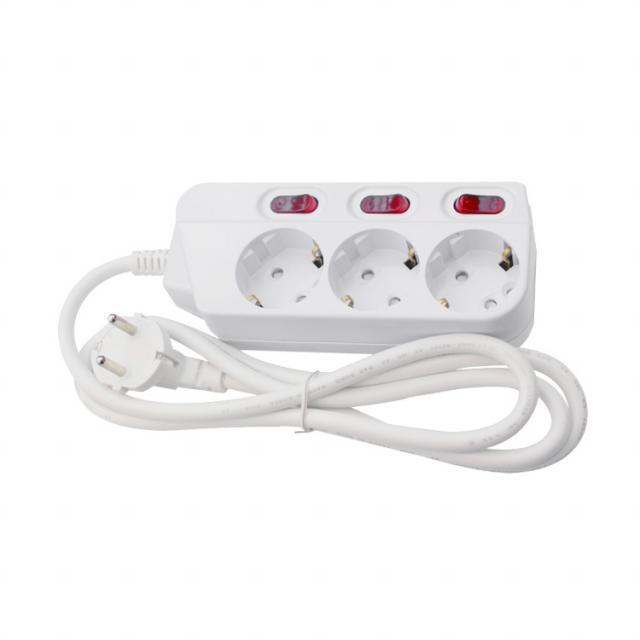typeb: (109, 151, 579, 355)
